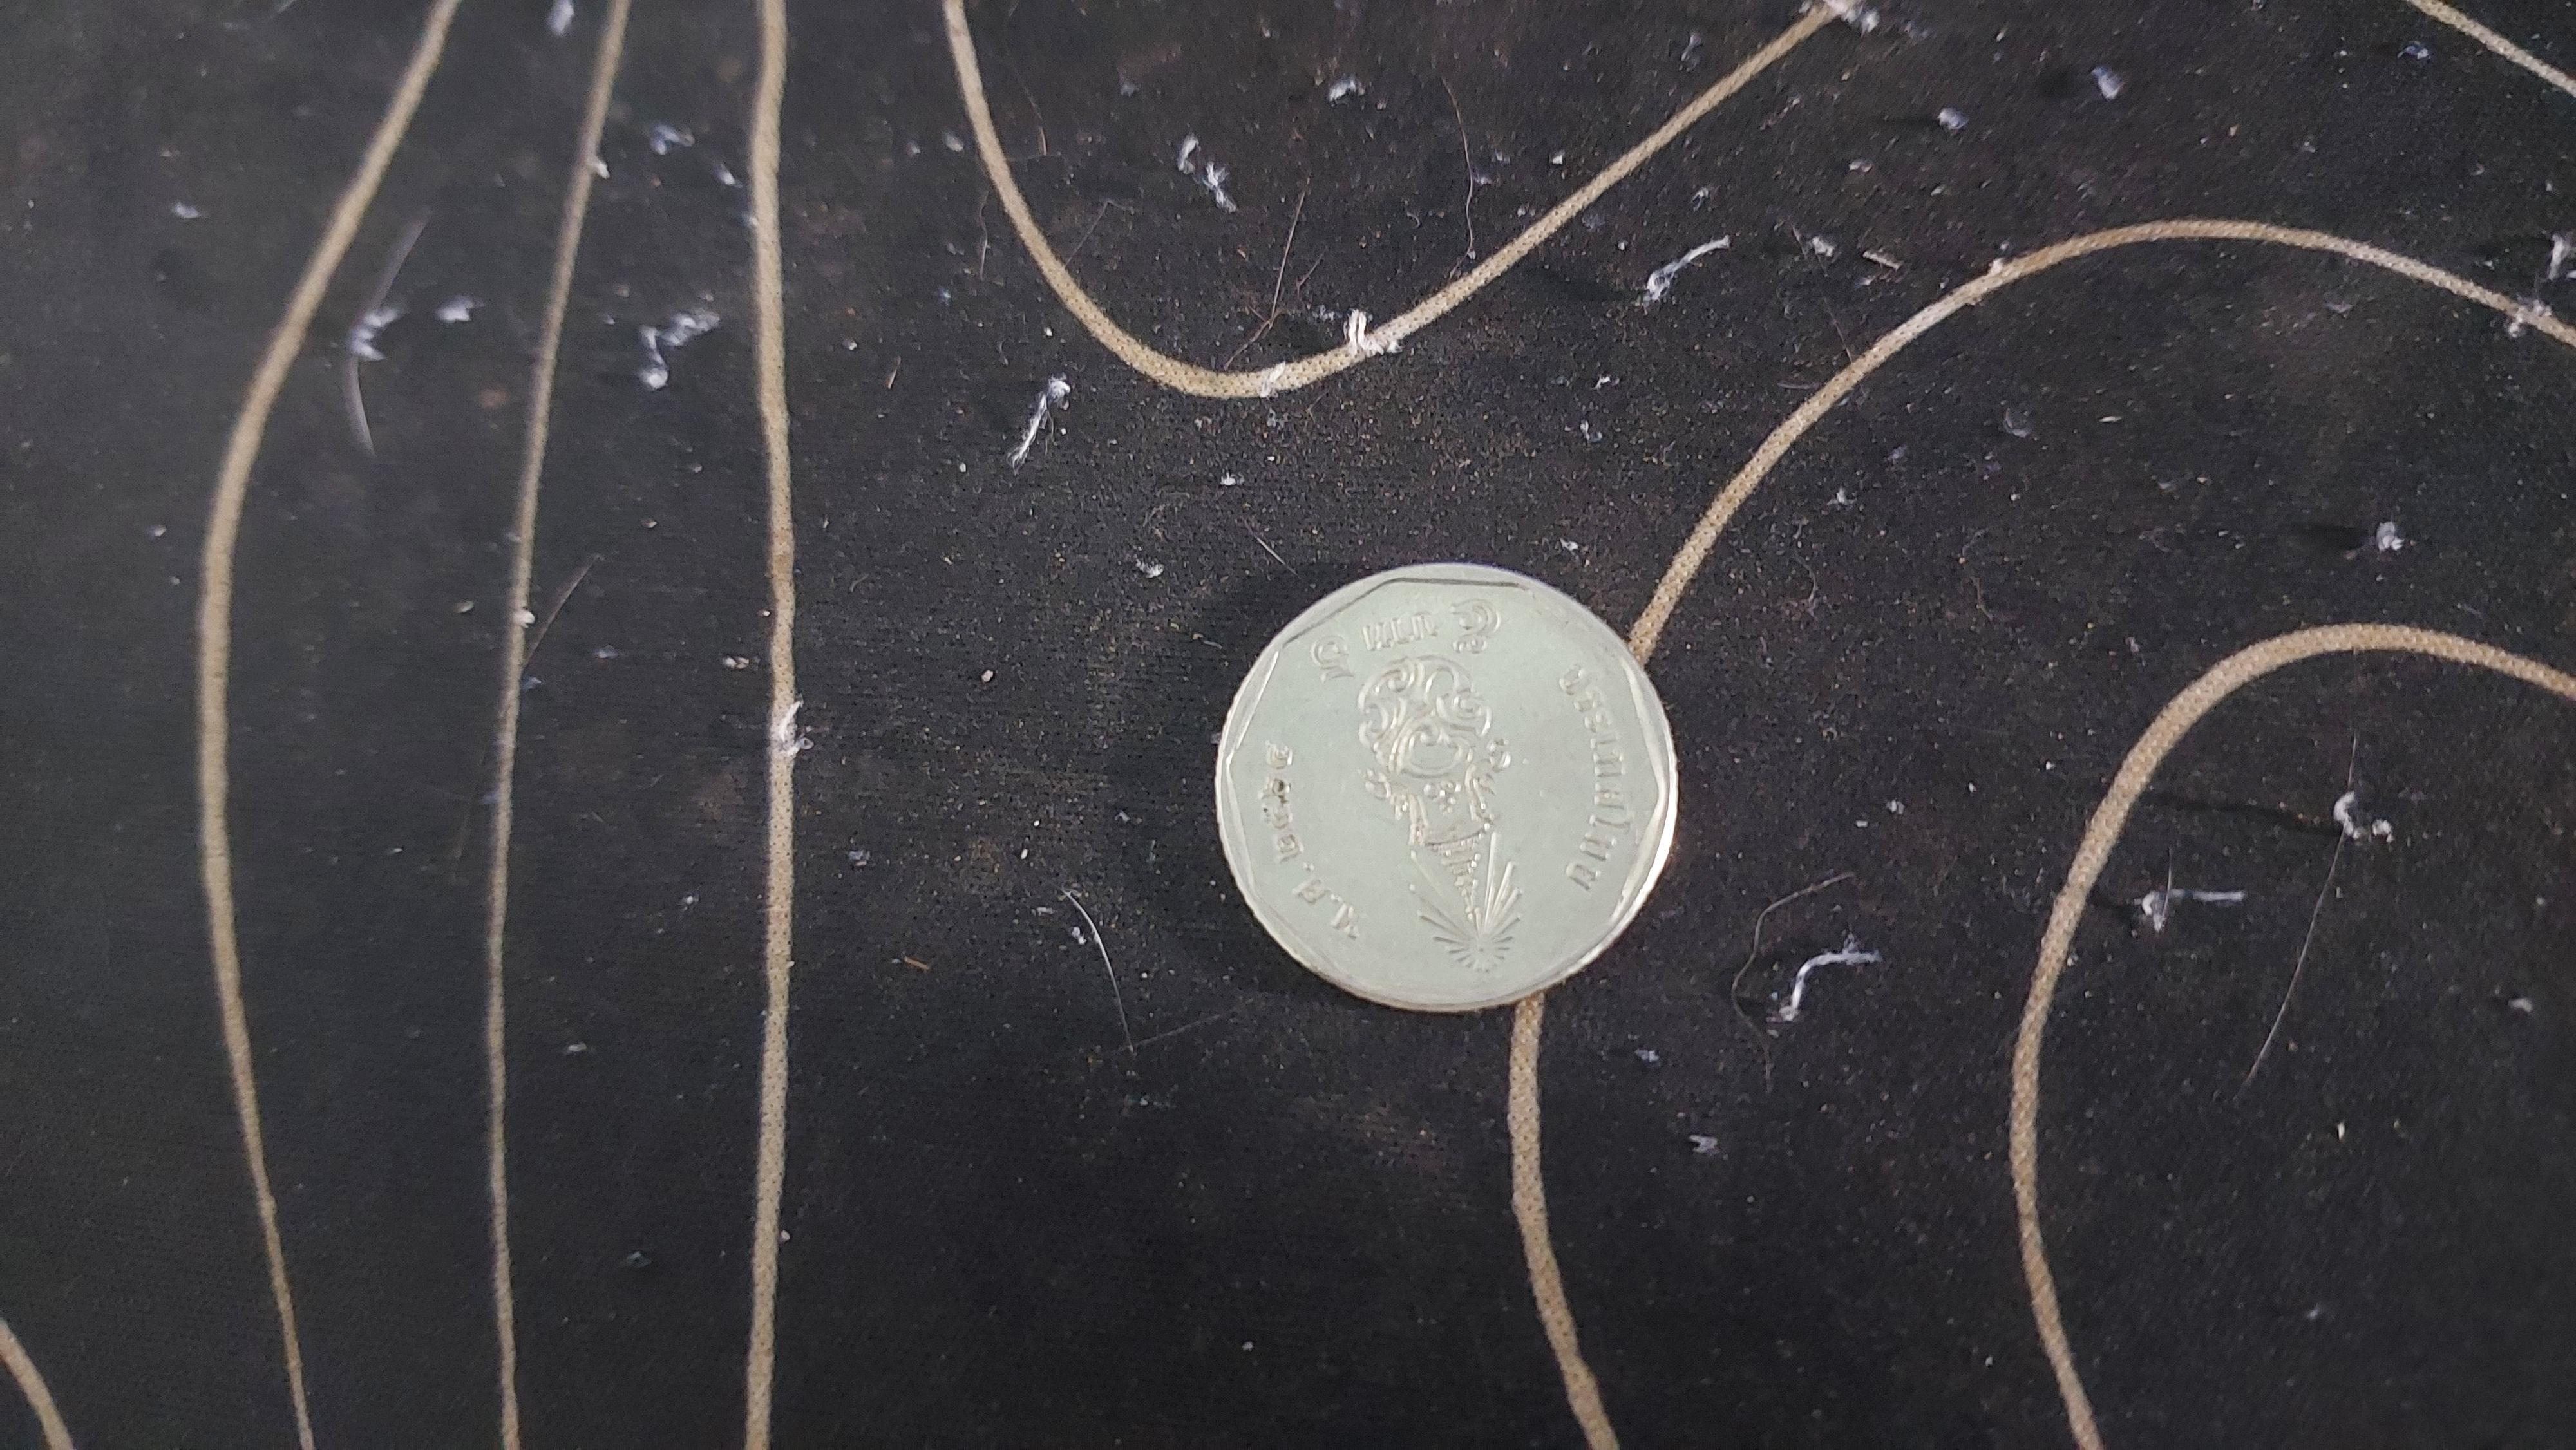5baht: (1113, 479, 1771, 1107)
